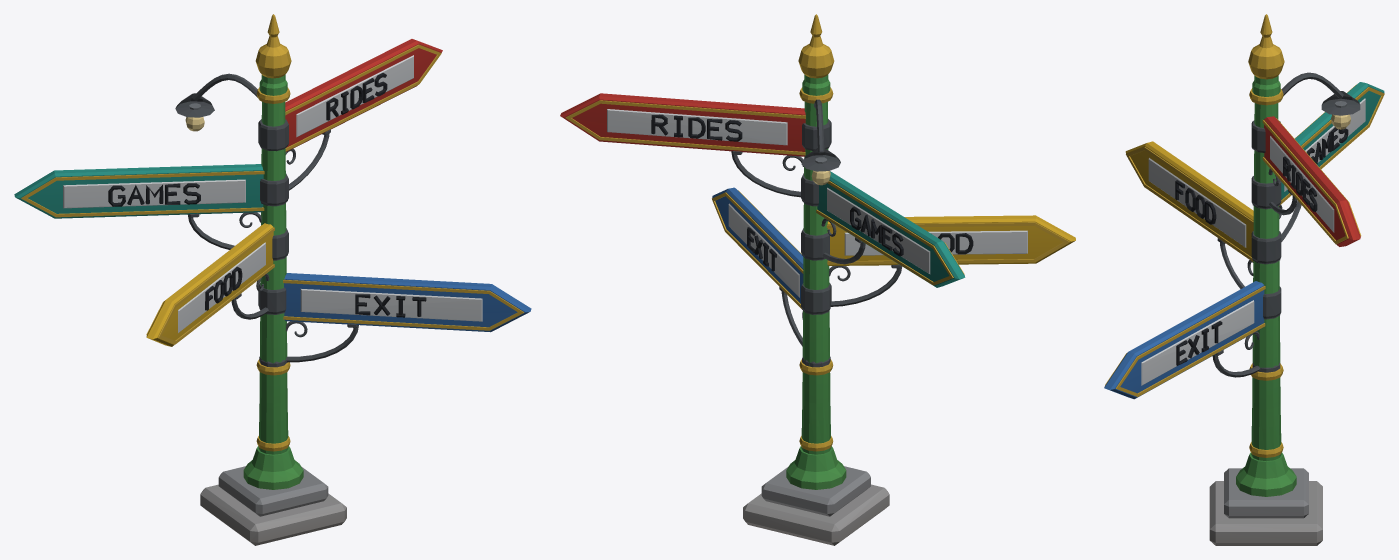
File: directional-signpost.glb
The picture shows the model from 3 angles, left to right: view 1: azimuth 30°, elevation 25°; view 2: azimuth 150°, elevation 25°; view 3: azimuth 270°, elevation 25°; orthographic projection.
Parts seen in each view (by area): view 1: directional_signpost; view 2: directional_signpost; view 3: directional_signpost.
Boxes of the visible parts, x1,y1,x2,y2 form: directional_signpost: (14, 14, 531, 545); directional_signpost: (560, 14, 1075, 545); directional_signpost: (1104, 14, 1384, 545).
Size of the model in its own units: 2.41 by 2.78 by 1.39.
